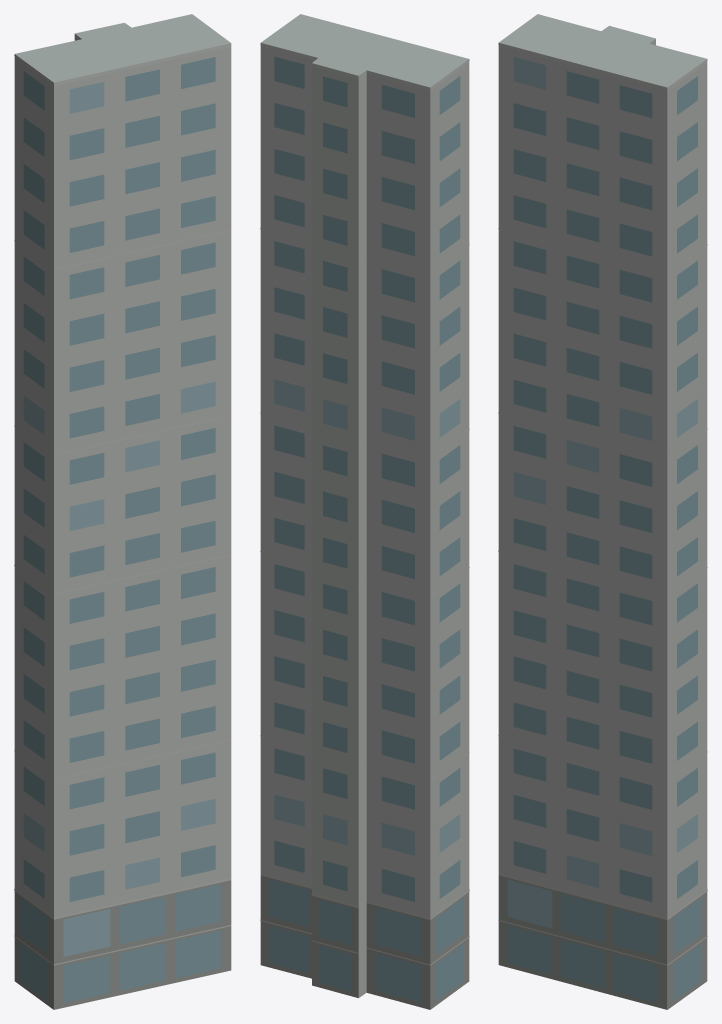
Rendered from survey-upis-32651182.glb.
The picture shows the model from 3 angles, left to right: view 1: azimuth 30°, elevation 25°; view 2: azimuth 150°, elevation 25°; view 3: azimuth 330°, elevation 25°; orthographic projection.
Parts seen in each view (by area): view 1: survey-upis-32651182.tmp; view 2: survey-upis-32651182.tmp; view 3: survey-upis-32651182.tmp.
Part boxes in pixels (x1,y1,x2,y2): survey-upis-32651182.tmp: [14, 14, 231, 1009]; survey-upis-32651182.tmp: [260, 14, 469, 1009]; survey-upis-32651182.tmp: [498, 14, 707, 1009].
Size of the model in its own units: 12.01 by 61 by 5.88.
